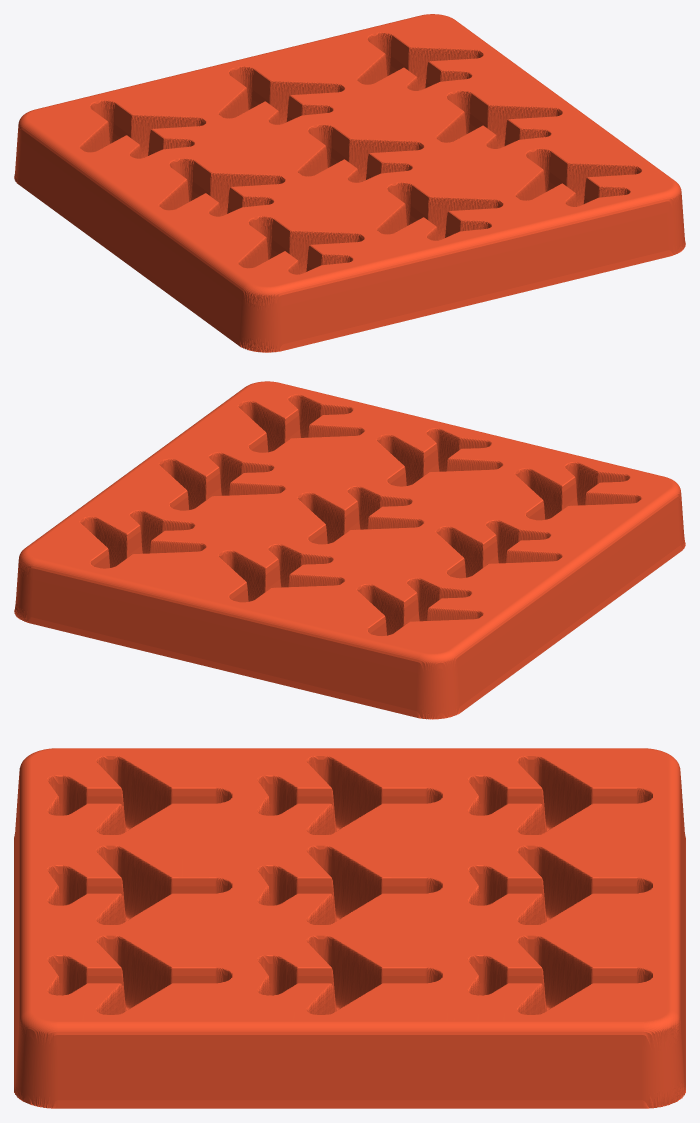
The model's file is mold.glb.
3 renders of one model, top to bottom at view 1: azimuth 30°, elevation 25°; view 2: azimuth 150°, elevation 25°; view 3: azimuth 270°, elevation 25°, orthographic. The views are drawn at different scales.
Visible parts, largest first — view 1: geometry_0; view 2: geometry_0; view 3: geometry_0.
Boxes of the visible parts, x1,y1,x2,y2 form: geometry_0: (14,14,685,352); geometry_0: (14,381,685,719); geometry_0: (14,748,685,1108).
Size of the model in its own units: 0.1402 by 0.0182 by 0.1387.
